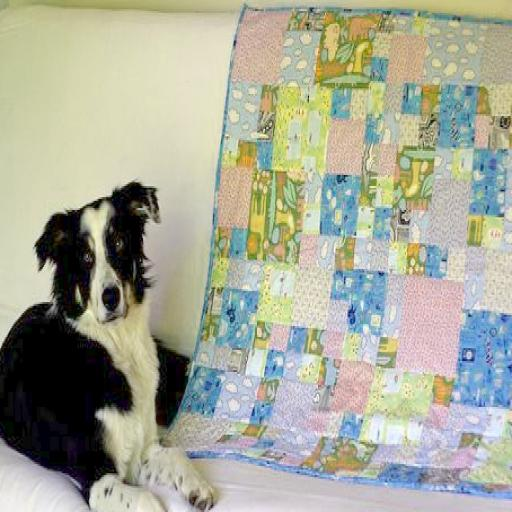dog_face: (41, 186, 168, 320)
